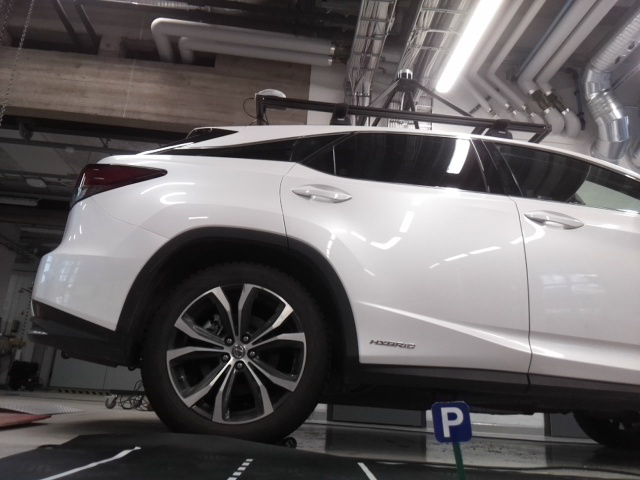Parking: (432, 400, 470, 441)
